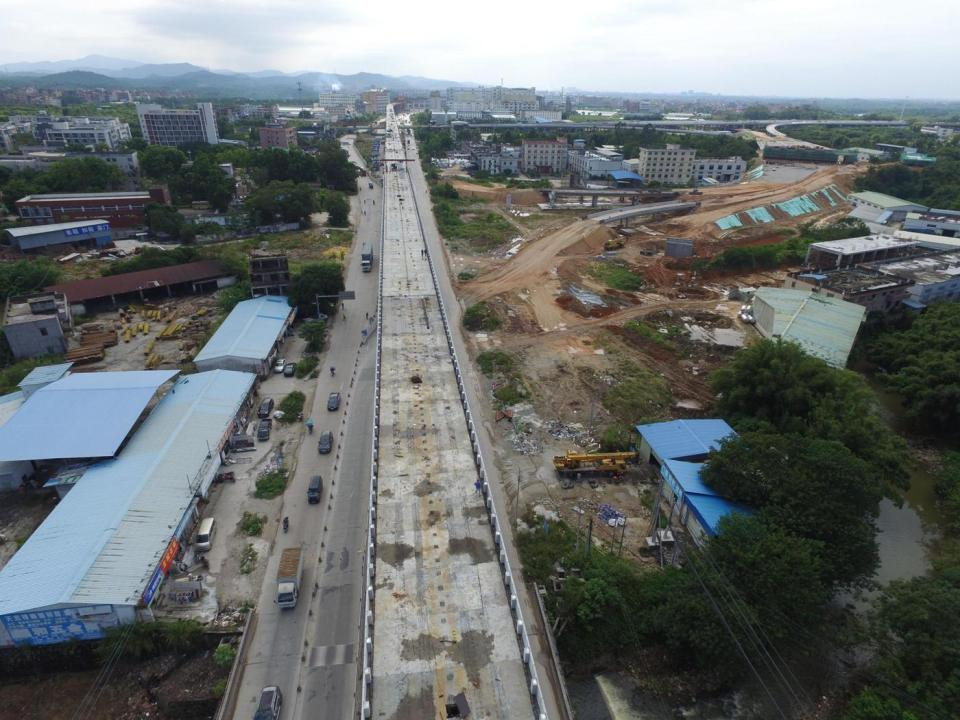car: (316, 430, 333, 454), (256, 397, 274, 417), (258, 419, 272, 440), (327, 393, 340, 411), (275, 357, 286, 373), (285, 363, 296, 376)
truck: (276, 546, 304, 607), (250, 685, 282, 720), (361, 244, 373, 272), (304, 312, 328, 323), (358, 165, 366, 176), (368, 182, 373, 188)
van: (197, 518, 216, 553), (309, 474, 322, 504)
